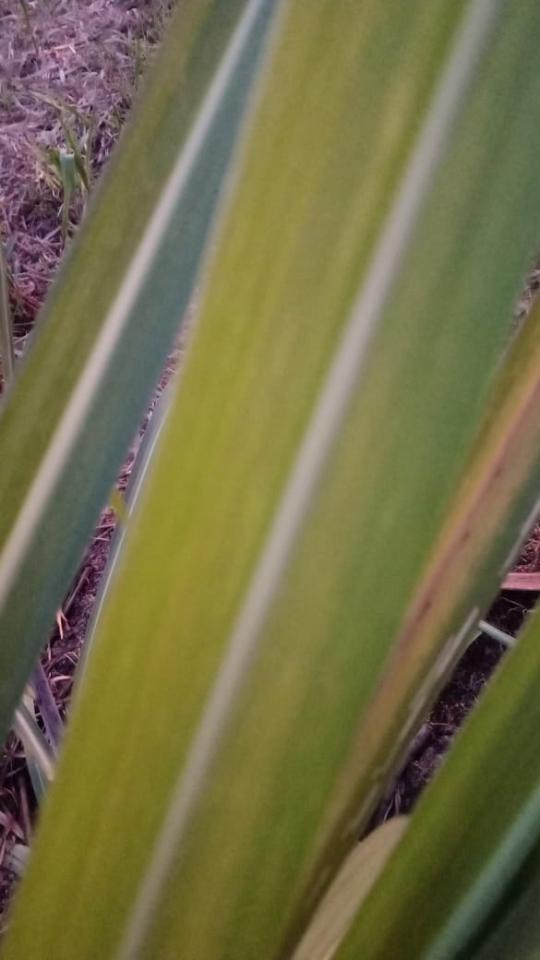Yellow: (294, 363, 539, 914)
